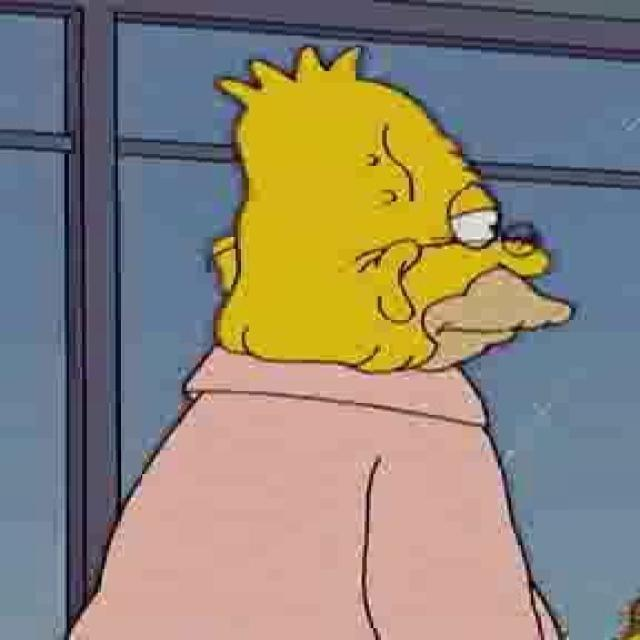Abraham Grampa Simpson: (209, 41, 582, 380)
